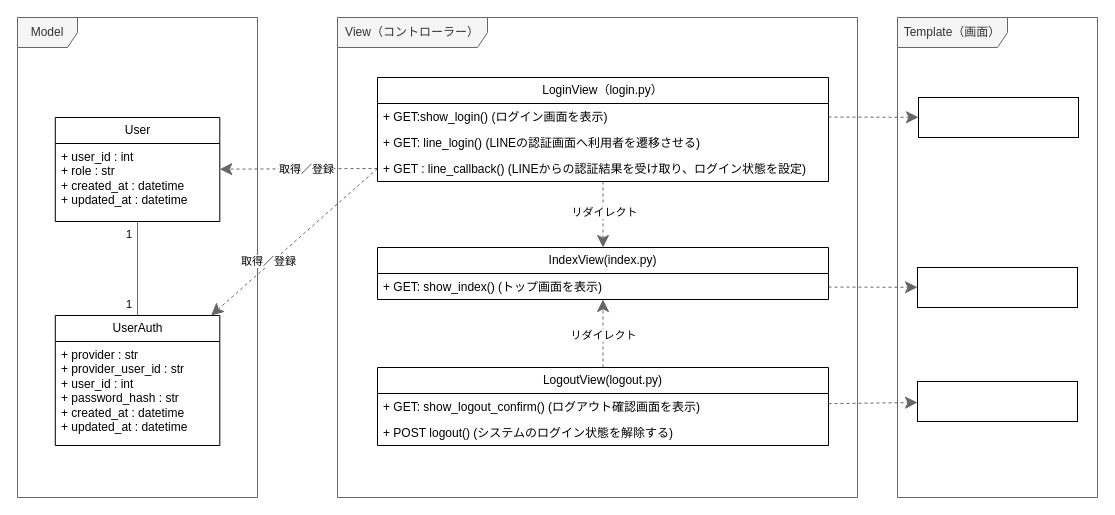
This 1115x515 diagram has some shape labels left out. Each missing label, with the centre of its shape:
index.html: (997,287)
login.html: (998,117)
logout.html: (997,401)
